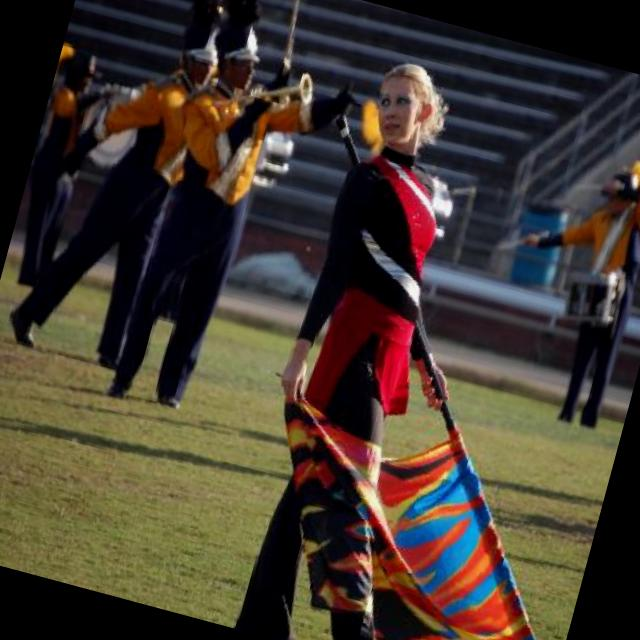Person: (214, 51, 534, 640), (104, 8, 374, 438), (3, 0, 227, 379), (480, 149, 640, 430)
